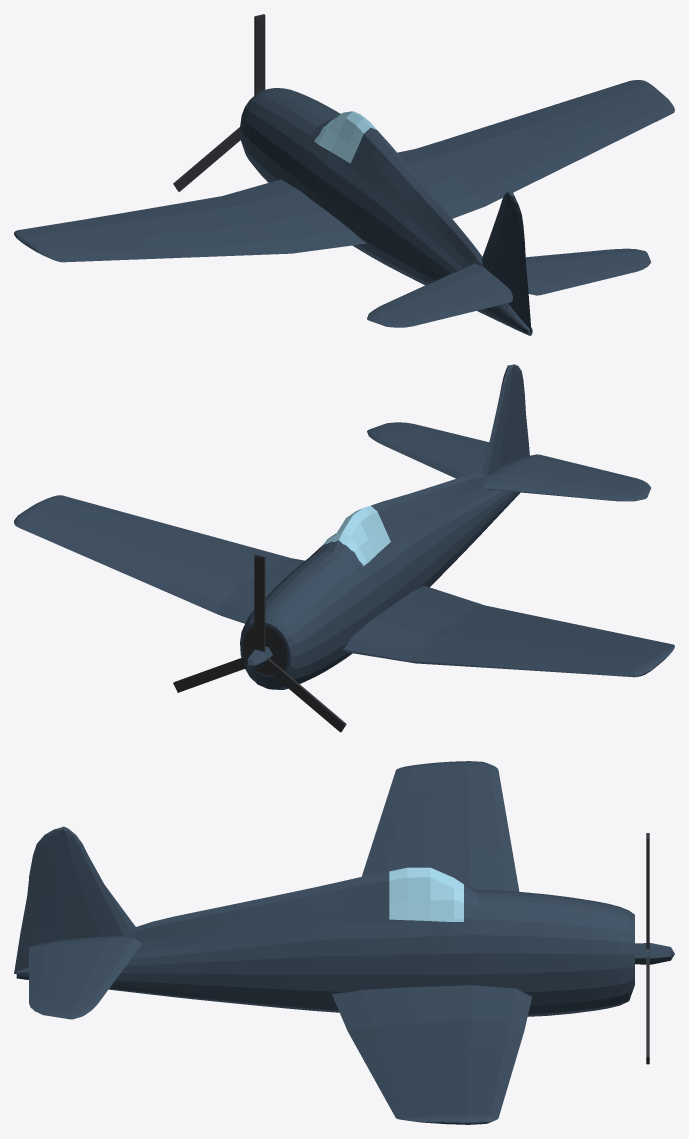
The picture shows the model from 3 angles, top to bottom: view 1: azimuth 30°, elevation 25°; view 2: azimuth 150°, elevation 25°; view 3: azimuth 270°, elevation 25°; orthographic projection. The views are drawn at different scales.
Visible parts, largest first — view 1: F6F_Wing, F6F_Fuselage, F6F_Tailplane, F6F_Fin, F6F_Prop, F6F_Canopy; view 2: F6F_Wing, F6F_Fuselage, F6F_Tailplane, F6F_Prop, F6F_Fin, F6F_Canopy, F6F_CowlFace; view 3: F6F_Fuselage, F6F_Wing, F6F_Fin, F6F_Tailplane, F6F_Canopy, F6F_Prop, F6F_Spinner.
Boxes of the visible parts, bbox=[...] form: F6F_Wing: bbox=[14, 80, 674, 262]; F6F_Fuselage: bbox=[240, 88, 532, 335]; F6F_Tailplane: bbox=[367, 248, 651, 327]; F6F_Fin: bbox=[482, 191, 531, 332]; F6F_Prop: bbox=[173, 14, 265, 191]; F6F_Canopy: bbox=[314, 111, 376, 163]; F6F_Wing: bbox=[14, 495, 674, 677]; F6F_Fuselage: bbox=[240, 473, 520, 689]; F6F_Tailplane: bbox=[367, 422, 651, 501]; F6F_Prop: bbox=[173, 554, 346, 732]; F6F_Fin: bbox=[482, 364, 529, 476]; F6F_Canopy: bbox=[323, 505, 390, 565]; F6F_CowlFace: bbox=[242, 626, 287, 675]; F6F_Fuselage: bbox=[16, 871, 634, 1016]; F6F_Wing: bbox=[332, 761, 531, 1124]; F6F_Fin: bbox=[14, 826, 129, 973]; F6F_Tailplane: bbox=[29, 876, 142, 1019]; F6F_Canopy: bbox=[389, 867, 463, 921]; F6F_Prop: bbox=[646, 833, 649, 1064]; F6F_Spinner: bbox=[635, 943, 674, 964].
Bounding box in the file's own units: 13.06 × 3.21 × 10.12.
